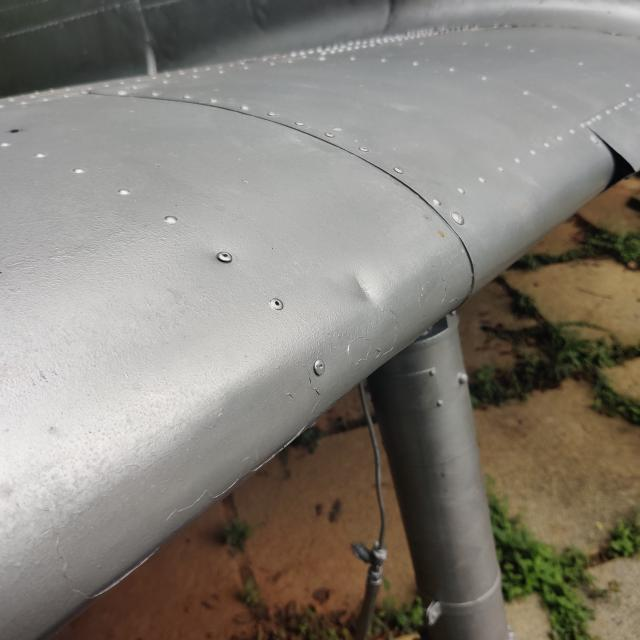dent: (316, 241, 416, 341)
